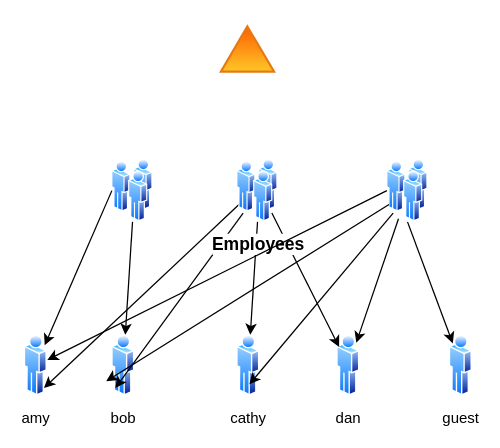
Some shapes in this 500 by 448 pixel diagram are drawn without their labels. Here are the shapes that lost their labels. From the top down, the centre of each, then its label:
At point 247,47: "acme.local domain".
At point 131,190: "IT-Staff".
At point 407,190: "Users".
